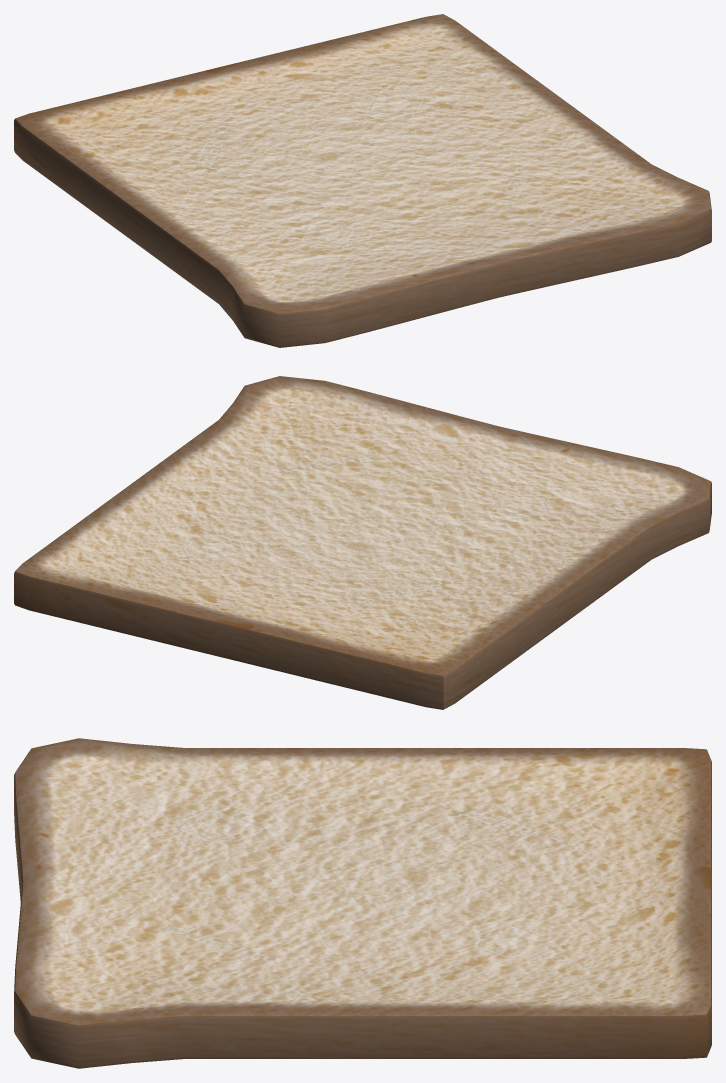
File: bread.fbx
3 renders of one model, top to bottom at view 1: azimuth 30°, elevation 25°; view 2: azimuth 150°, elevation 25°; view 3: azimuth 270°, elevation 25°, orthographic. The views are drawn at different scales.
Parts seen in each view (by area): view 1: bred!; view 2: bred!; view 3: bred!.
Boxes of the visible parts, x1=… form: bred!: x1=14, y1=14, x2=711, y2=347; bred!: x1=14, y1=376, x2=711, y2=709; bred!: x1=14, y1=738, x2=711, y2=1068.
Bounding box in the file's own units: 49 × 3.59 × 50.14.
